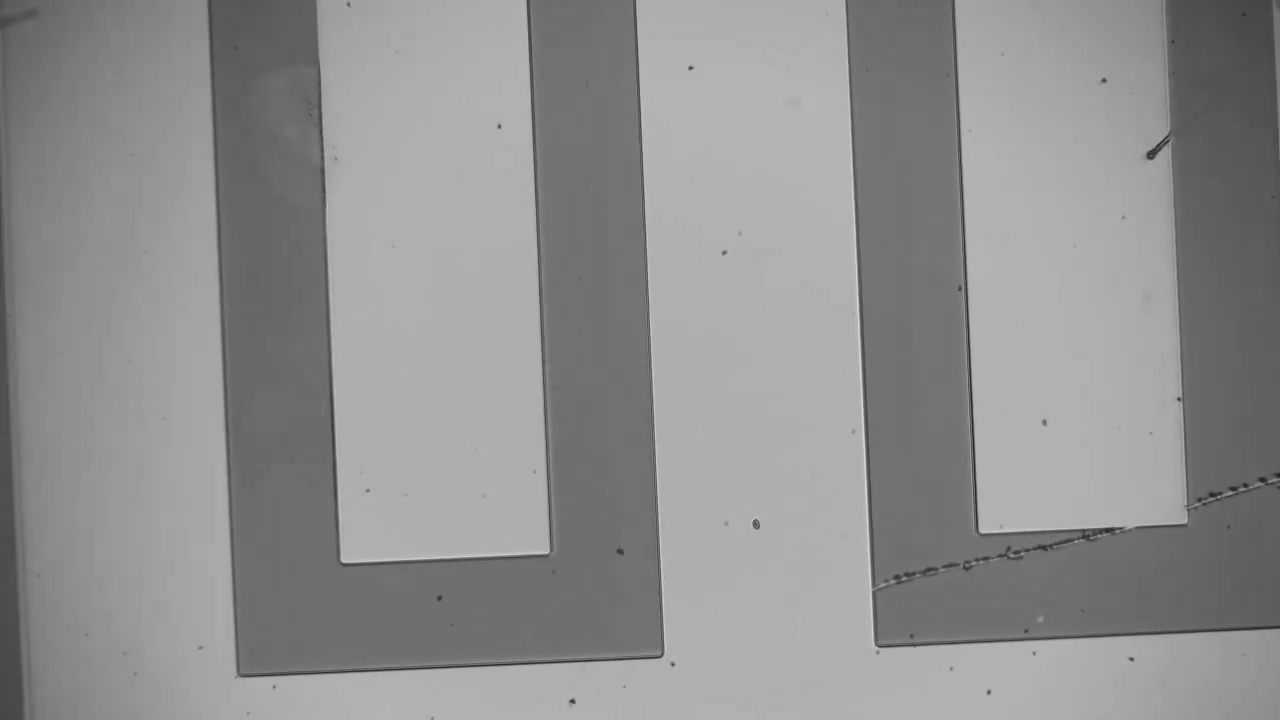scratch: (879, 473, 1279, 585)
